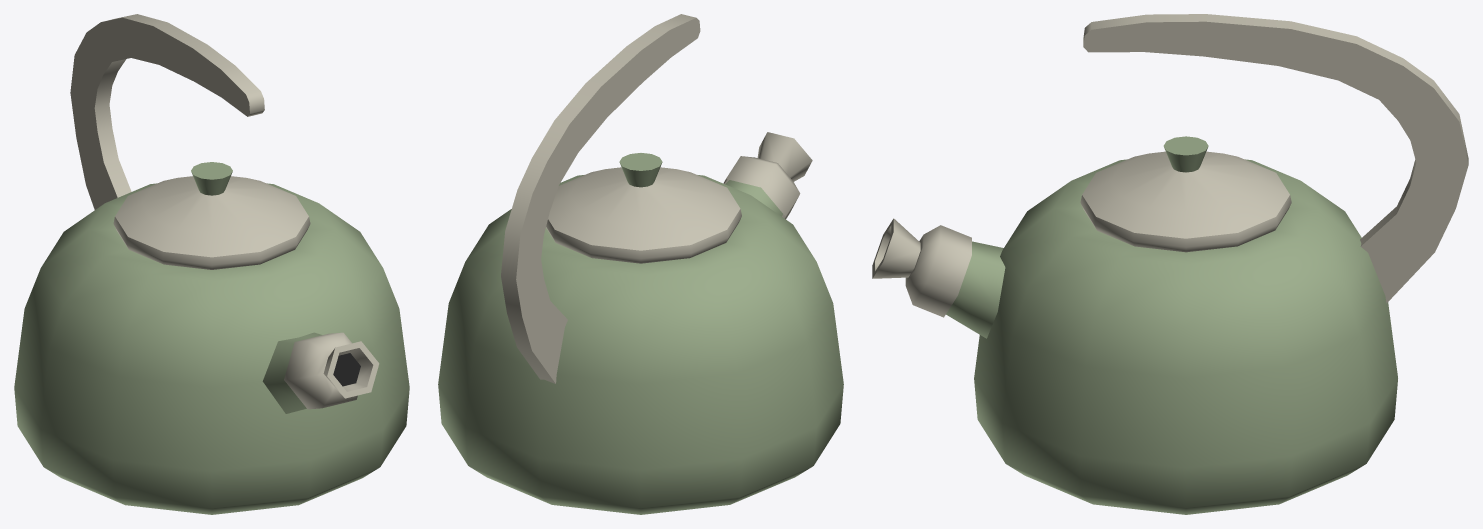
File: TeaKettle_01.fbx
The picture shows the model from 3 angles, left to right: view 1: azimuth 30°, elevation 25°; view 2: azimuth 150°, elevation 25°; view 3: azimuth 270°, elevation 25°; orthographic projection. The views are drawn at different scales.
Parts seen in each view (by area): view 1: TeaKettle_01, TeaKettle_01_Lid; view 2: TeaKettle_01, TeaKettle_01_Lid; view 3: TeaKettle_01, TeaKettle_01_Lid.
Part boxes in pixels (box(x1,y1,x2,y2)): TeaKettle_01: box(14, 14, 409, 514); TeaKettle_01_Lid: box(113, 162, 310, 269); TeaKettle_01: box(438, 14, 843, 514); TeaKettle_01_Lid: box(546, 153, 741, 263); TeaKettle_01: box(872, 14, 1468, 514); TeaKettle_01_Lid: box(1080, 136, 1291, 252).
Bounding box in the file's own units: 0.2193 × 0.2379 × 0.3082.
